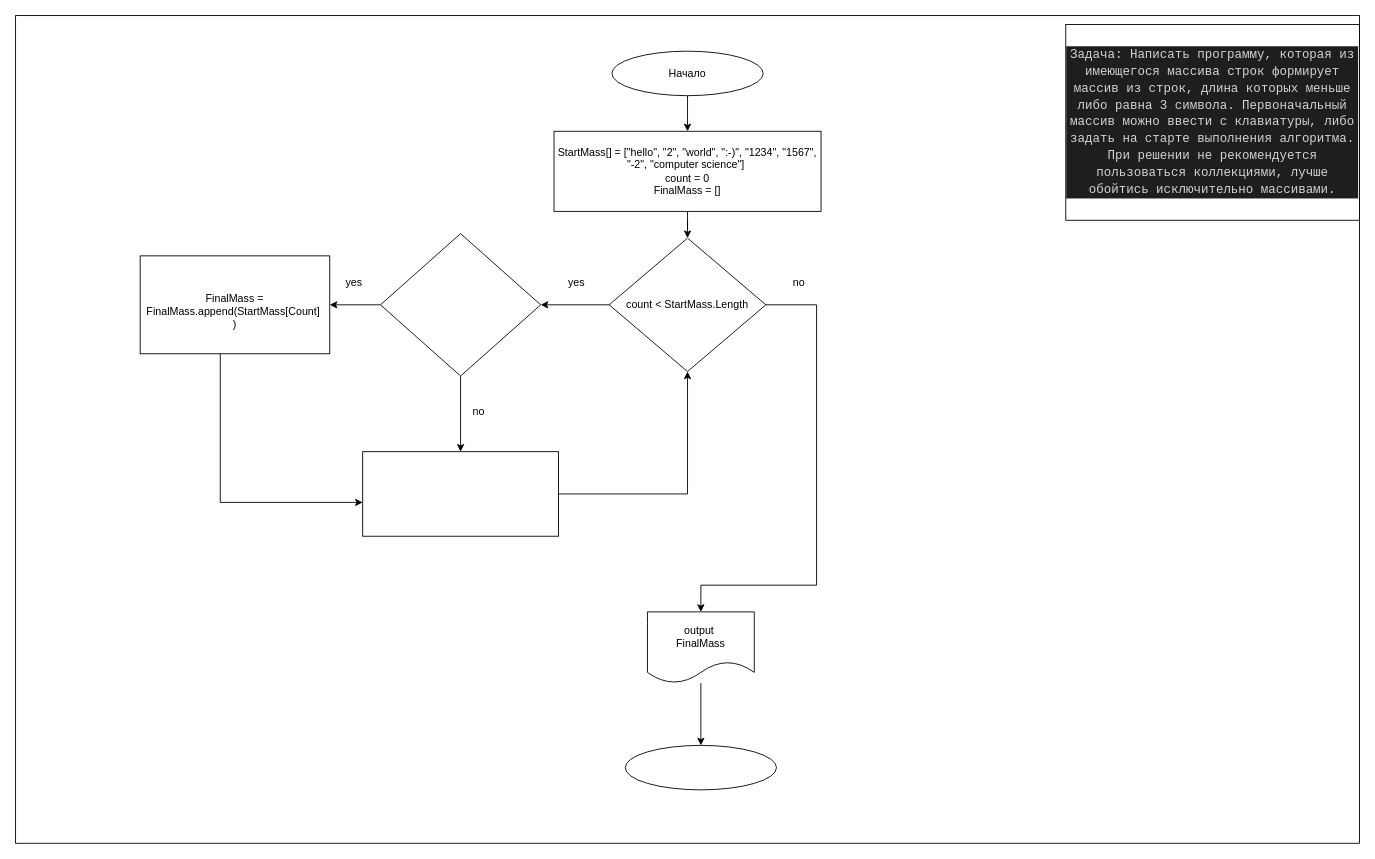
The diagram is 1375 pixels wide and 859 high, and some of its shapes have lost their labels. Each missing label, with the box of its shape:
Count = Count + 1: (362, 451, 558, 536)
StartMass[Count] <= 3: (380, 233, 541, 376)
Конец: (624, 744, 777, 790)
